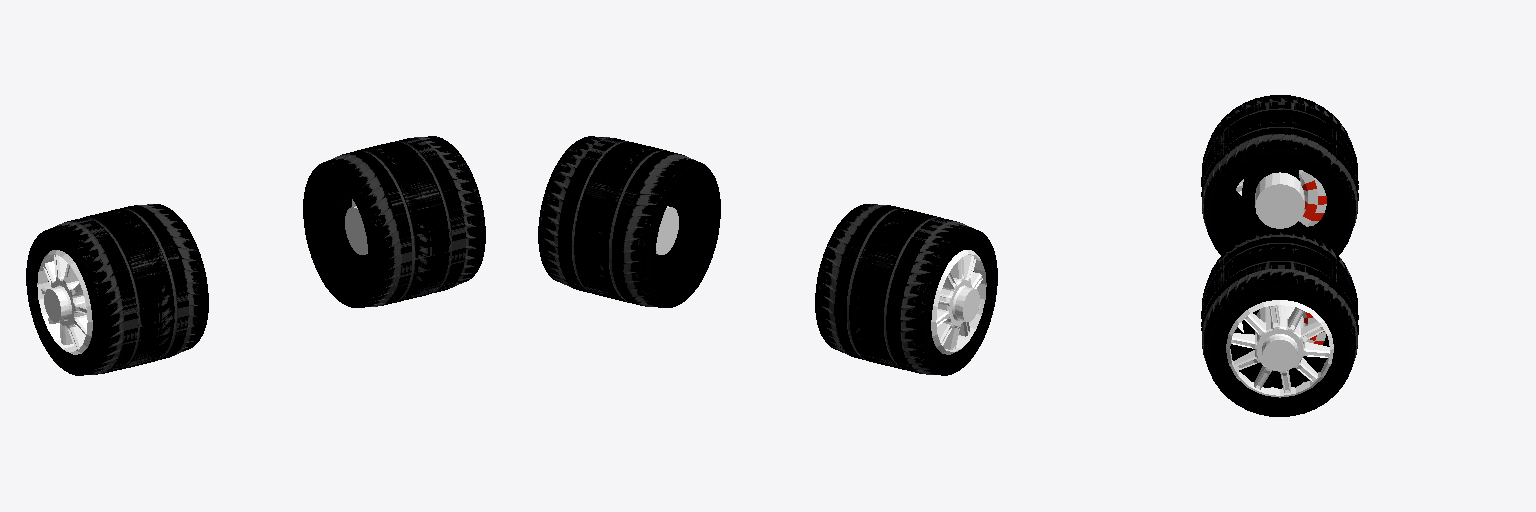
The picture shows the model from 3 angles: view 1: azimuth 30°, elevation 25°; view 2: azimuth 150°, elevation 25°; view 3: azimuth 270°, elevation 25°; orthographic projection.
Parts seen in each view (by area): view 1: tirethin.002, tirethin.001_tirethin.008; view 2: tirethin.002, tirethin.001_tirethin.008; view 3: tirethin.001_tirethin.008, tirethin.002.
Part boxes in pixels (x1,y1,x2,y2): tirethin.002: (26, 204, 208, 375); tirethin.001_tirethin.008: (303, 136, 485, 307); tirethin.002: (815, 204, 997, 375); tirethin.001_tirethin.008: (538, 136, 720, 307); tirethin.001_tirethin.008: (1201, 230, 1358, 416); tirethin.002: (1201, 95, 1358, 255).
Bounding box in the file's own units: 60.8 × 20.35 × 20.35.
Materials: 1 (1 with a texture image).